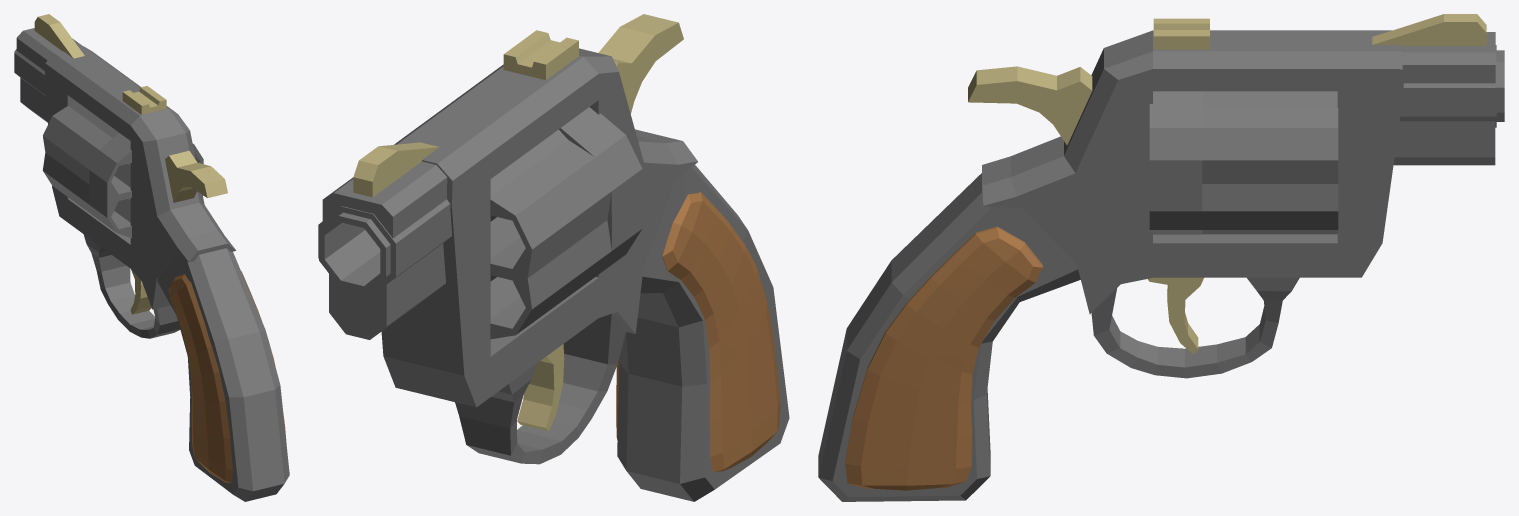
The model's file is Revolver-B-Short.fbx.
3 views of the same model, side by side, from view 1: azimuth 30°, elevation 25°; view 2: azimuth 150°, elevation 25°; view 3: azimuth 270°, elevation 25° (orthographic). The views are drawn at different scales.
Visible parts, largest first — view 1: Revolver; view 2: Revolver; view 3: Revolver.
Boxes of the visible parts, x1,y1,x2,y2 form: Revolver: (14, 14, 289, 501); Revolver: (318, 14, 789, 501); Revolver: (818, 14, 1504, 501).
Size of the model in its own units: 71.53 by 229 by 302.
